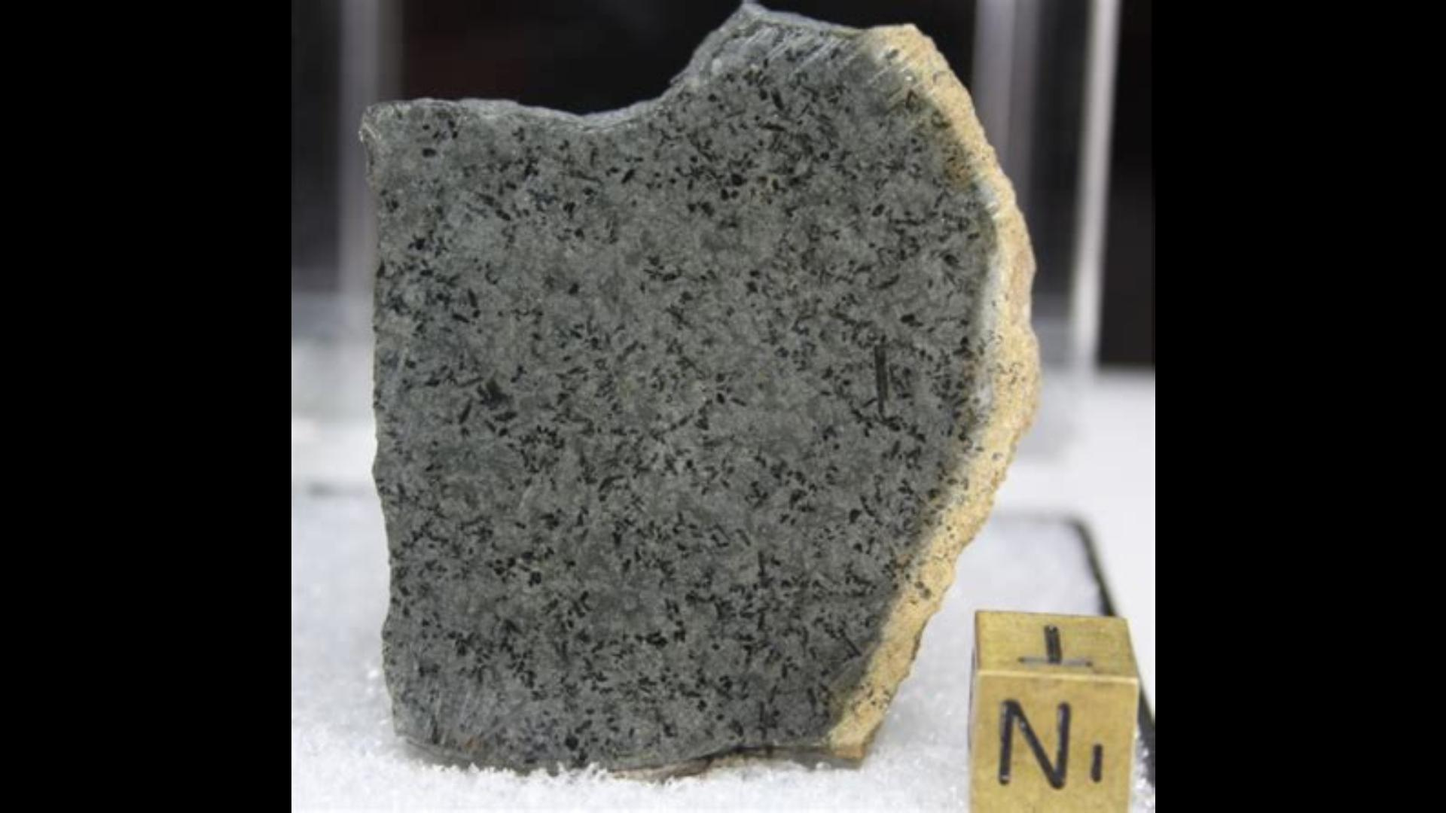rock: (365, 5, 1037, 766)
